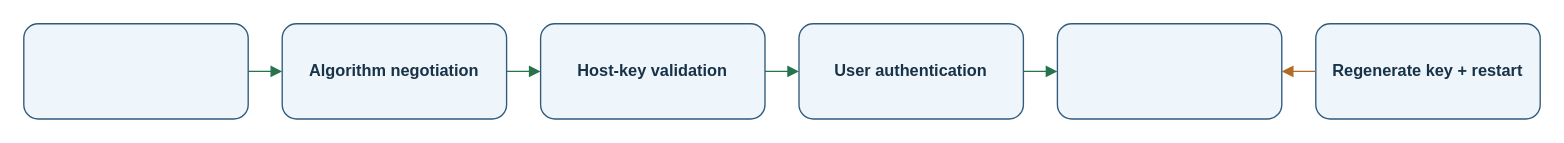
The diagram is 1564 pixels wide and 143 high, and some of its shapes have lost their labels. The shapes that lost their labels are listed below. From the top down, each one's box as (x1, y1, x2, y2) in pixels, then its label:
(22, 22, 248, 119): SSH client TCP
(1056, 22, 1282, 119): sshd process
